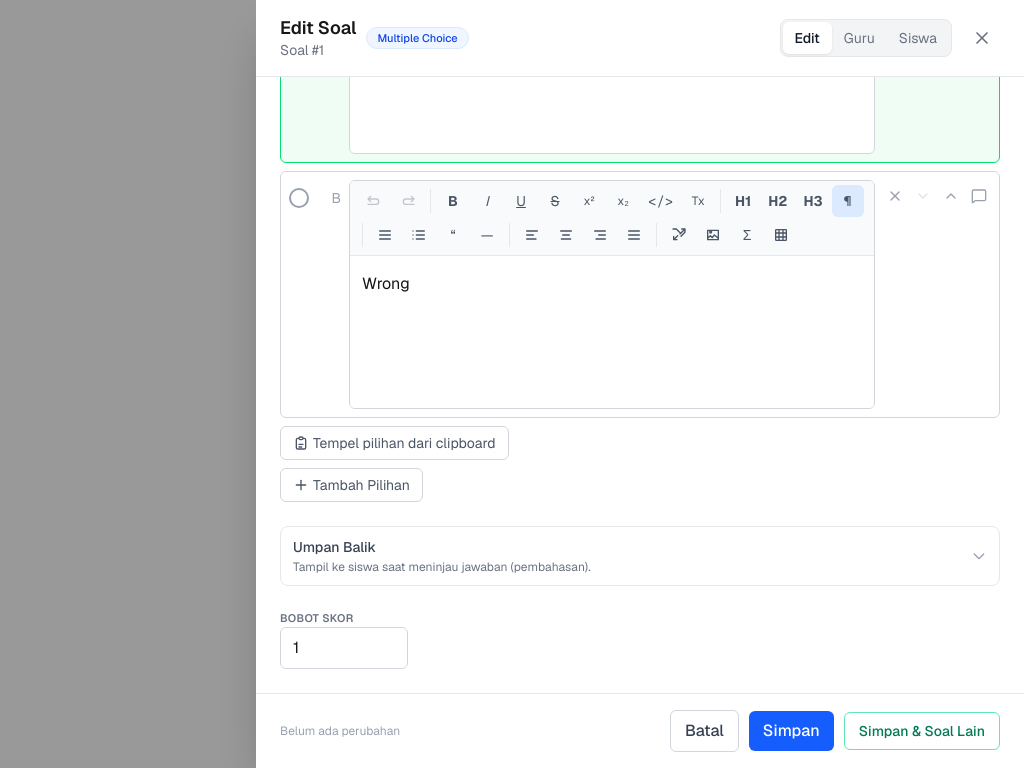
Test: QuestionEditor autosave › shows Save failed on network errors, keeps a local draft, and saves on Retry
This screenshot has width=1024, height=768.
(page scrolled)
Replace the text in the number field labelled "Bobot Skor" with "3". click: coordinates (344, 648)
box: [280, 626, 408, 668]
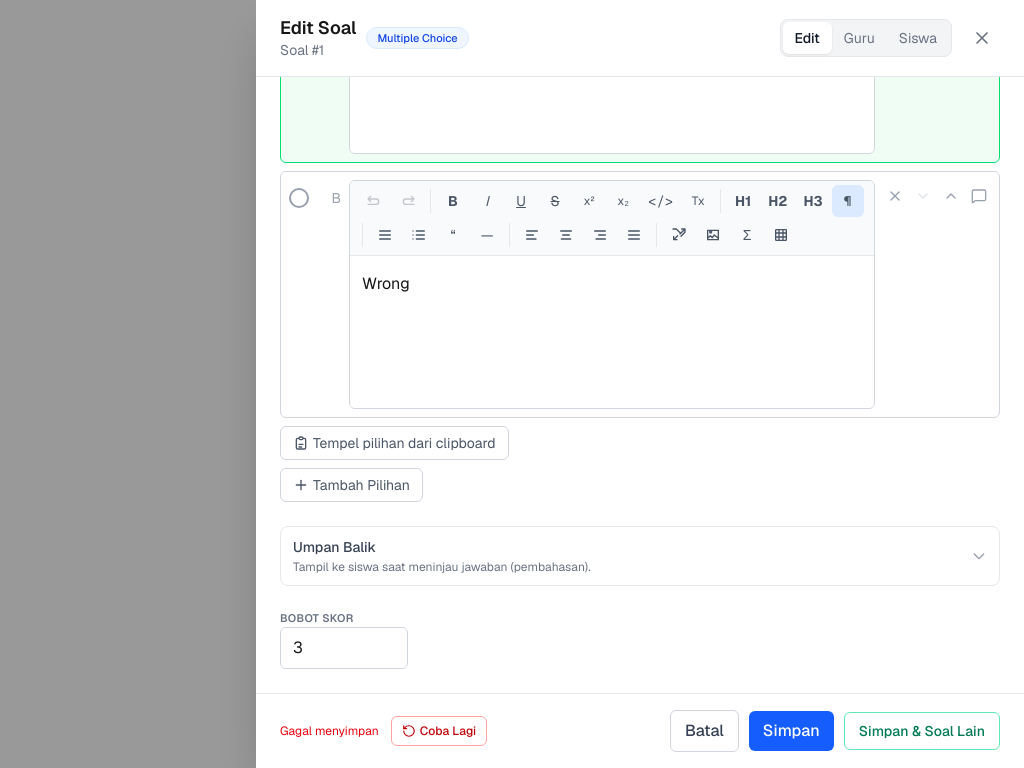
Check: the text "Gagal menyimpan" is shown, box [280, 723, 379, 739]
Click the button "Coba Lagi". click: coordinates (439, 731)
box: [391, 716, 487, 746]
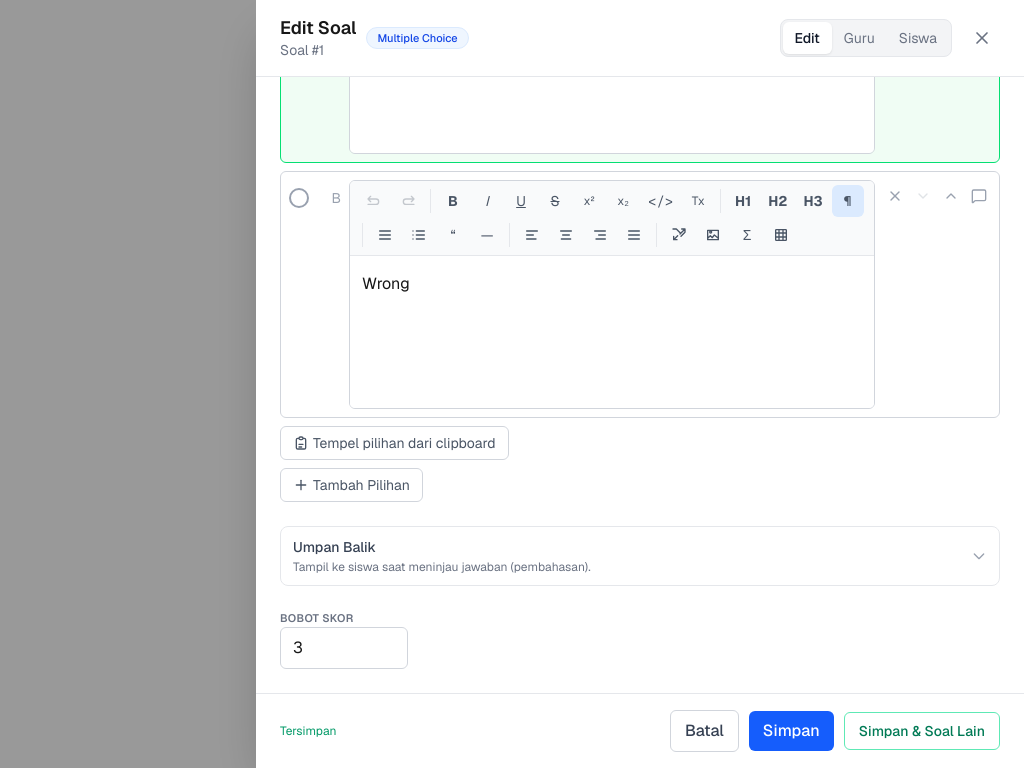
Check: the text "Tersimpan" is shown, box [280, 723, 336, 739]
